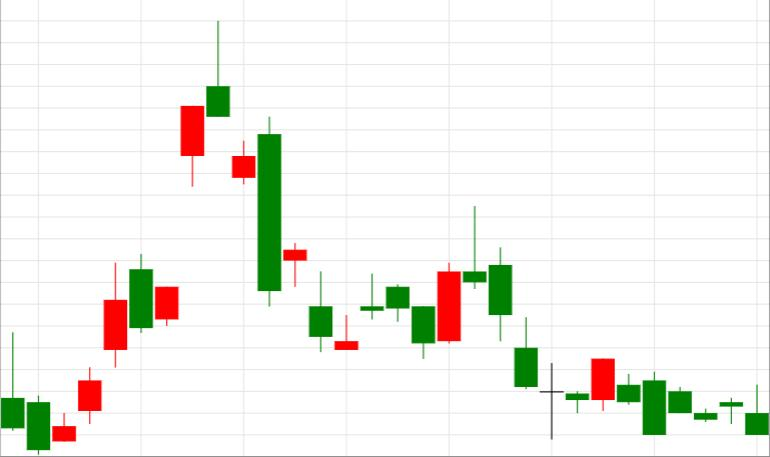shooting_star_fall: (53, 21, 231, 442)
